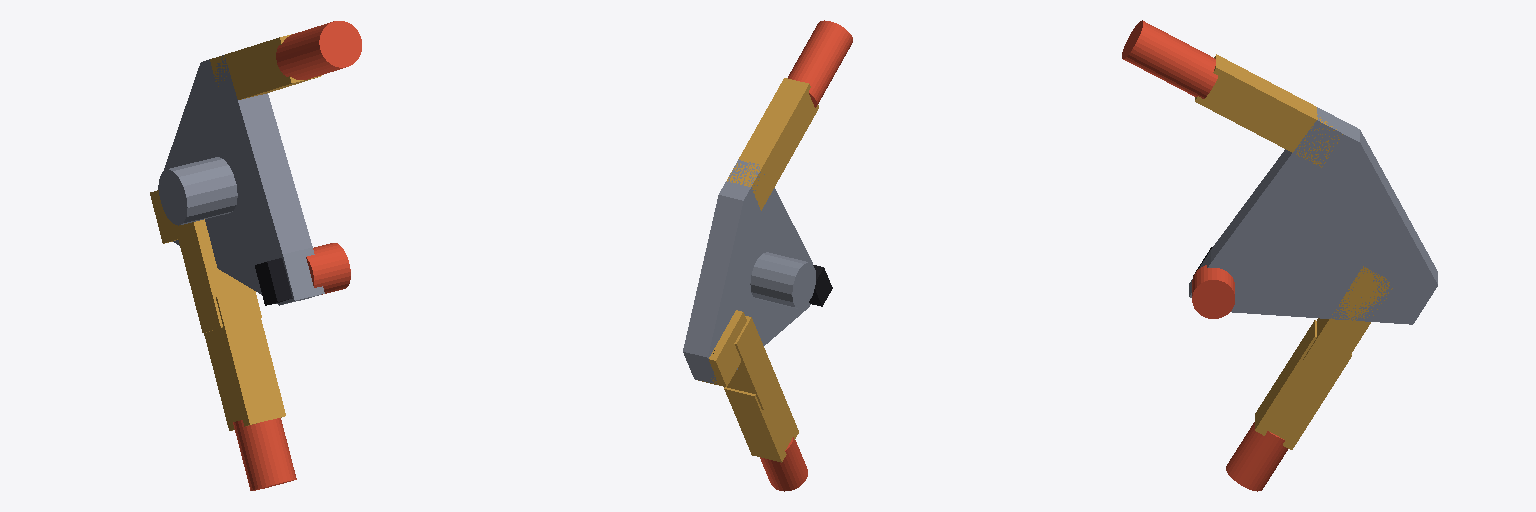
The robot description file, URDF, robot "g0014_c14":
<robot name="g0014_c14">
  <link name="palm">
    <visual name="palm_palm1">
      <origin xyz="0 0 0" rpy="0 0 0" />
      <geometry>
        <mesh filename="palm_palm1.obj" />
      </geometry>
      <material name="palm_palm1_mat">
        <color rgba="0.55 0.57 0.62 1" />
      </material>
    </visual>
    <collision>
      <origin xyz="0 0 0" rpy="0 0 0" />
      <geometry>
        <mesh filename="palm_palm1.obj" />
      </geometry>
    </collision>
    <visual name="palm_mount2">
      <origin xyz="0 0 0" rpy="0 0 0" />
      <geometry>
        <mesh filename="palm_mount2.obj" />
      </geometry>
      <material name="palm_mount2_mat">
        <color rgba="0.55 0.57 0.62 1" />
      </material>
    </visual>
    <collision>
      <origin xyz="0 0 0" rpy="0 0 0" />
      <geometry>
        <mesh filename="palm_mount2.obj" />
      </geometry>
    </collision>
    <visual name="palm_motor3">
      <origin xyz="-0.007 -0.08 -0.04" rpy="1.06057524e-16 -1.04719755 1.57079633" />
      <geometry>
        <box size="0.029 0.034 0.02" />
      </geometry>
      <material name="palm_motor3_mat">
        <color rgba="0.15 0.15 0.17 1" />
      </material>
    </visual>
    <collision>
      <origin xyz="-0.007 -0.08 -0.04" rpy="1.06057524e-16 -1.04719755 1.57079633" />
      <geometry>
        <box size="0.029 0.034 0.02" />
      </geometry>
    </collision>
    <visual name="palm_motor4">
      <origin xyz="0 0.00649519053 0.07625" rpy="-1.57079633 -1.04719755 1.57079633" />
      <geometry>
        <box size="0.029 0.034 0.02" />
      </geometry>
      <material name="palm_motor4_mat">
        <color rgba="0.15 0.15 0.17 1" />
      </material>
    </visual>
    <collision>
      <origin xyz="0 0.00649519053 0.07625" rpy="-1.57079633 -1.04719755 1.57079633" />
      <geometry>
        <box size="0.029 0.034 0.02" />
      </geometry>
    </collision>
    <visual name="palm_motor5">
      <origin xyz="-0.0045 0.0666996732 -0.0467548095" rpy="1.57079633 -0.523598776 -1.57079633" />
      <geometry>
        <box size="0.029 0.034 0.02" />
      </geometry>
      <material name="palm_motor5_mat">
        <color rgba="0.15 0.15 0.17 1" />
      </material>
    </visual>
    <collision>
      <origin xyz="-0.0045 0.0666996732 -0.0467548095" rpy="1.57079633 -0.523598776 -1.57079633" />
      <geometry>
        <box size="0.029 0.034 0.02" />
      </geometry>
    </collision>
    <inertial>
      <origin xyz="3.10892508e-19 0.00202098598 -0.00412507605" rpy="1.57079633 -0.574668648 1.57079633" />
      <mass value="0.794651752" />
      <inertia ixx="0.00133165972" ixy="0" ixz="0" iyy="0.00143806464" iyz="0" izz="0.00269343778" />
    </inertial>
  </link>
  <link name="f0_link0">
    <visual name="f0_link0_link1">
      <origin xyz="0.019 0 -6.9388939e-18" rpy="-1.57079633 -0 -1.57079633" />
      <geometry>
        <cylinder radius="0.0165" length="0.029" />
      </geometry>
      <material name="f0_link0_link1_mat">
        <color rgba="0.85 0.35 0.25 1" />
      </material>
    </visual>
    <collision>
      <origin xyz="0.019 0 -6.9388939e-18" rpy="-1.57079633 -0 -1.57079633" />
      <geometry>
        <cylinder radius="0.0165" length="0.029" />
      </geometry>
    </collision>
    <inertial>
      <origin xyz="0.019 0 0" rpy="0 0 0" />
      <mass value="0.0763354" />
      <inertia ixx="9.49466441e-06" ixy="0" ixz="0" iyy="2.24143997e-05" iyz="0" izz="2.24143997e-05" />
    </inertial>
  </link>
  <link name="f1_link0">
    <visual name="f1_link0_link1">
      <origin xyz="0.04375 0 0" rpy="0 7.03853194e-17 0" />
      <geometry>
        <box size="0.1115 0.024 0.033" />
      </geometry>
      <material name="f1_link0_link1_mat">
        <color rgba="0.80 0.62 0.30 1" />
      </material>
    </visual>
    <collision>
      <origin xyz="0.04375 0 0" rpy="0 7.03853194e-17 0" />
      <geometry>
        <box size="0.1115 0.024 0.033" />
      </geometry>
    </collision>
    <inertial>
      <origin xyz="0.04375 0 0" rpy="0 0 0" />
      <mass value="0.154539" />
      <inertia ixx="2.14422863e-05" ixy="0" ixz="0" iyy="0.000174130038" iyz="0" izz="0.000167523496" />
    </inertial>
  </link>
  <link name="f1_link1">
    <visual name="f1_link1_link1">
      <origin xyz="0.039 0 0" rpy="-1.57079633 -0 -1.57079633" />
      <geometry>
        <cylinder radius="0.0165" length="0.069" />
      </geometry>
      <material name="f1_link1_link1_mat">
        <color rgba="0.85 0.35 0.25 1" />
      </material>
    </visual>
    <collision>
      <origin xyz="0.039 0 0" rpy="-1.57079633 -0 -1.57079633" />
      <geometry>
        <cylinder radius="0.0165" length="0.069" />
      </geometry>
    </collision>
    <inertial>
      <origin xyz="0.039 0 0" rpy="0 0 0" />
      <mass value="0.136206302" />
      <inertia ixx="1.76445909e-05" ixy="0" ixz="0" iyy="0.000104842911" iyz="0" izz="0.000104842911" />
    </inertial>
  </link>
  <link name="f2_link0">
    <visual name="f2_link0_link1">
      <origin xyz="-0.00625 0 -0.0165" rpy="0 4.06369831e-17 0" />
      <geometry>
        <box size="0.0365 0.029 0.053" />
      </geometry>
      <material name="f2_link0_link1_mat">
        <color rgba="0.80 0.62 0.30 1" />
      </material>
    </visual>
    <collision>
      <origin xyz="-0.00625 0 -0.0165" rpy="0 4.06369831e-17 0" />
      <geometry>
        <box size="0.0365 0.029 0.053" />
      </geometry>
    </collision>
    <inertial>
      <origin xyz="-0.00625 0 -0.0165" rpy="0 0 0" />
      <mass value="0.098175875" />
      <inertia ixx="2.98618286e-05" ixy="0" ixz="0" iyy="3.38809035e-05" iyz="0" izz="1.778006e-05" />
    </inertial>
  </link>
  <link name="f2_link1">
    <visual name="f2_link1_link1">
      <origin xyz="0.03375 0 6.9388939e-18" rpy="0 4.06369831e-17 0" />
      <geometry>
        <box size="0.0915 0.033 0.029" />
      </geometry>
      <material name="f2_link1_link1_mat">
        <color rgba="0.80 0.62 0.30 1" />
      </material>
    </visual>
    <collision>
      <origin xyz="0.03375 0 6.9388939e-18" rpy="0 4.06369831e-17 0" />
      <geometry>
        <box size="0.0915 0.033 0.029" />
      </geometry>
    </collision>
    <inertial>
      <origin xyz="0.03375 0 0" rpy="0 0 0" />
      <mass value="0.153239625" />
      <inertia ixx="2.46460397e-05" ixy="0" ixz="0" iyy="0.000117652915" iyz="0" izz="0.000120819867" />
    </inertial>
  </link>
  <link name="f2_link2">
    <visual name="f2_link2_link1">
      <origin xyz="0.03375 0 -1.38777878e-17" rpy="0 4.06369831e-17 0" />
      <geometry>
        <box size="0.0915 0.029 0.033" />
      </geometry>
      <material name="f2_link2_link1_mat">
        <color rgba="0.80 0.62 0.30 1" />
      </material>
    </visual>
    <collision>
      <origin xyz="0.03375 0 -1.38777878e-17" rpy="0 4.06369831e-17 0" />
      <geometry>
        <box size="0.0915 0.029 0.033" />
      </geometry>
    </collision>
    <inertial>
      <origin xyz="0.03375 0 0" rpy="0 0 0" />
      <mass value="0.153239625" />
      <inertia ixx="2.46460397e-05" ixy="0" ixz="0" iyy="0.000120819867" iyz="0" izz="0.000117652915" />
    </inertial>
  </link>
  <link name="f2_link3">
    <visual name="f2_link3_link1">
      <origin xyz="0.029 0 1.04083409e-17" rpy="-1.57079633 -0 -1.57079633" />
      <geometry>
        <cylinder radius="0.0165" length="0.049" />
      </geometry>
      <material name="f2_link3_link1_mat">
        <color rgba="0.85 0.35 0.25 1" />
      </material>
    </visual>
    <collision>
      <origin xyz="0.029 0 1.04083409e-17" rpy="-1.57079633 -0 -1.57079633" />
      <geometry>
        <cylinder radius="0.0165" length="0.049" />
      </geometry>
    </collision>
    <inertial>
      <origin xyz="0.029 0 0" rpy="0 0 0" />
      <mass value="0.106270851" />
      <inertia ixx="1.35696277e-05" ixy="0" ixz="0" iyy="5.30015704e-05" iyz="0" izz="5.30015704e-05" />
    </inertial>
  </link>
  <joint name="f0_j0" type="revolute">
    <parent link="palm" />
    <child link="f0_link0" />
    <origin xyz="0.0005 -0.08 -0.04" rpy="1.04719755 5.30287619e-17 -3.061617e-17" />
    <axis xyz="0 1 6.123234e-17" />
    <limit effort="0.5" lower="-0.523598776" upper="0.523598776" velocity="5" />
    <dynamics damping="0.0775033" friction="0" />
  </joint>
  <joint name="f1_j0" type="revolute">
    <parent link="palm" />
    <child link="f1_link0" />
    <origin xyz="0 0 0.08" rpy="-0 -0.523598776 -1.57079633" />
    <axis xyz="0 0 1" />
    <limit effort="0.5" lower="-0.523598776" upper="1.57079633" velocity="5" />
    <dynamics damping="0.0775033" friction="0" />
  </joint>
  <joint name="f1_j1" type="revolute">
    <parent link="f1_link0" />
    <child link="f1_link1" />
    <origin xyz="0.09 0 0" rpy="0 0 0" />
    <axis xyz="0 0 1" />
    <limit effort="0.5" lower="-0.523598776" upper="1.57079633" velocity="5" />
    <dynamics damping="0.0775033" friction="0" />
  </joint>
  <joint name="f2_j0" type="revolute">
    <parent link="palm" />
    <child link="f2_link0" />
    <origin xyz="-0.0045 0.04 -0.04" rpy="0 1.04719755 -1.57079633" />
    <axis xyz="0 0 1" />
    <limit effort="0.5" lower="-0.523598776" upper="1.57079633" velocity="5" />
    <dynamics damping="0.0775033" friction="0" />
  </joint>
  <joint name="f2_j1" type="revolute">
    <parent link="f2_link0" />
    <child link="f2_link1" />
    <origin xyz="0 0 0" rpy="0 0 0" />
    <axis xyz="0 1 6.123234e-17" />
    <limit effort="0.5" lower="-0.523598776" upper="0.523598776" velocity="5" />
    <dynamics damping="0.0775033" friction="0" />
  </joint>
  <joint name="f2_j2" type="revolute">
    <parent link="f2_link1" />
    <child link="f2_link2" />
    <origin xyz="0.07 0 0" rpy="0 0 0" />
    <axis xyz="0 0 1" />
    <limit effort="0.5" lower="-0.523598776" upper="1.57079633" velocity="5" />
    <dynamics damping="0.0775033" friction="0" />
  </joint>
  <joint name="f2_j3" type="revolute">
    <parent link="f2_link2" />
    <child link="f2_link3" />
    <origin xyz="0.07 0 0" rpy="0 0 0" />
    <axis xyz="0 1 6.123234e-17" />
    <limit effort="0.5" lower="-0.523598776" upper="0.523598776" velocity="5" />
    <dynamics damping="0.0775033" friction="0" />
  </joint>
</robot>

--- Render facts (derived) ---
The picture shows the robot from 3 angles, left to right: view 1: azimuth 30°, elevation 25°; view 2: azimuth 150°, elevation 25°; view 3: azimuth 270°, elevation 25°; orthographic projection.
Model g0014_c14 with 8 links and 7 joints (7 revolute), rooted at palm, posed every joint at zero.
Links seen in each view (by area): view 1: palm, f2_link2, f1_link1, f2_link1, f2_link3, f1_link0, f0_link0, f2_link0; view 2: palm, f1_link0, f2_link2, f1_link1, f2_link1, f2_link0, f2_link3; view 3: palm, f1_link0, f2_link2, f1_link1, f2_link1, f2_link3, f0_link0.
Boxes of the visible links, x1,y1,x2,y2 form: palm: (158, 55, 324, 305); f2_link2: (204, 288, 285, 430); f1_link1: (276, 21, 361, 79); f2_link1: (175, 219, 261, 332); f2_link3: (233, 418, 296, 490); f1_link0: (210, 34, 321, 99); f0_link0: (306, 243, 350, 294); f2_link0: (150, 190, 177, 243); palm: (683, 159, 832, 383); f1_link0: (727, 78, 818, 210); f2_link2: (724, 384, 798, 462); f1_link1: (788, 20, 852, 107); f2_link1: (724, 316, 778, 409); f2_link0: (698, 310, 746, 386); f2_link3: (760, 437, 807, 491); palm: (1189, 107, 1437, 324); f1_link0: (1195, 54, 1342, 167); f2_link2: (1255, 320, 1351, 449); f1_link1: (1122, 20, 1217, 98); f2_link1: (1303, 266, 1392, 377); f2_link3: (1226, 422, 1287, 491); f0_link0: (1192, 265, 1234, 318).
Size in the robot's own frame: 0.086 by 0.2403 by 0.3919 metres.
2 mesh visuals loaded from 2 distinct referenced files (2 OBJ).
